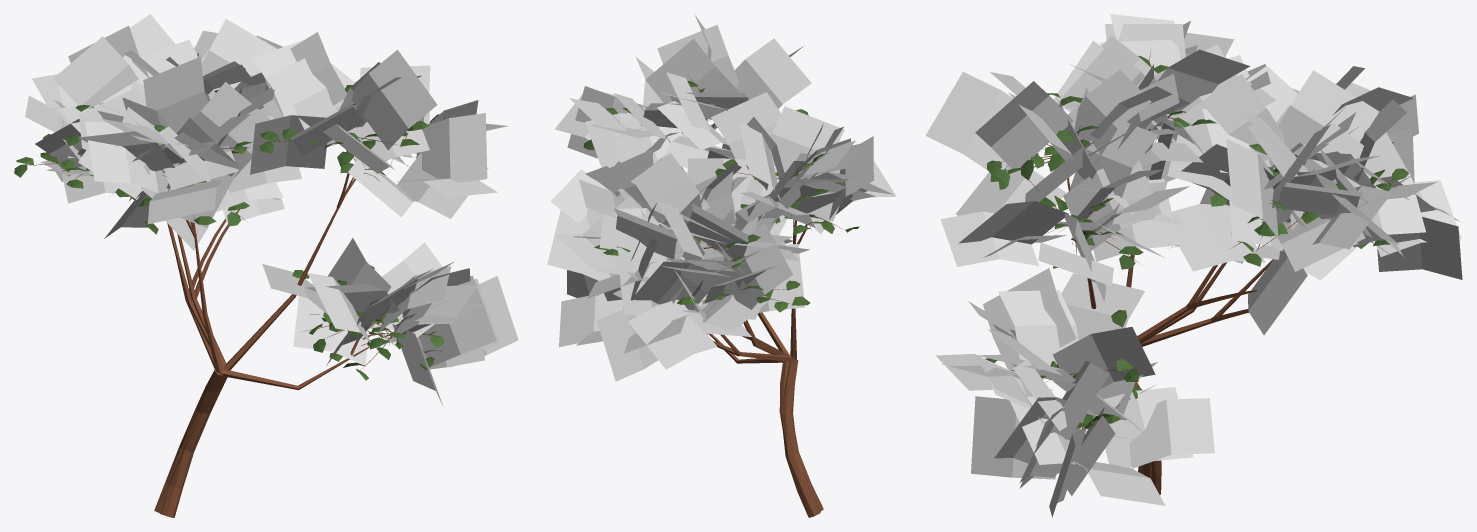
Rendered from Arbousier_Incline_LOD1.fbx.
3 renders of one model, left to right at view 1: azimuth 30°, elevation 25°; view 2: azimuth 150°, elevation 25°; view 3: azimuth 270°, elevation 25°, orthographic. The views are drawn at different scales.
Visible parts, largest first — view 1: Arbousier_Incline_LOD1; view 2: Arbousier_Incline_LOD1; view 3: Arbousier_Incline_LOD1.
Part boxes in pixels (x1,y1,x2,y2): Arbousier_Incline_LOD1: (14,14,518,517); Arbousier_Incline_LOD1: (547,14,896,517); Arbousier_Incline_LOD1: (925,14,1462,517).
Bounding box in the file's own units: 348 × 393 × 373.
